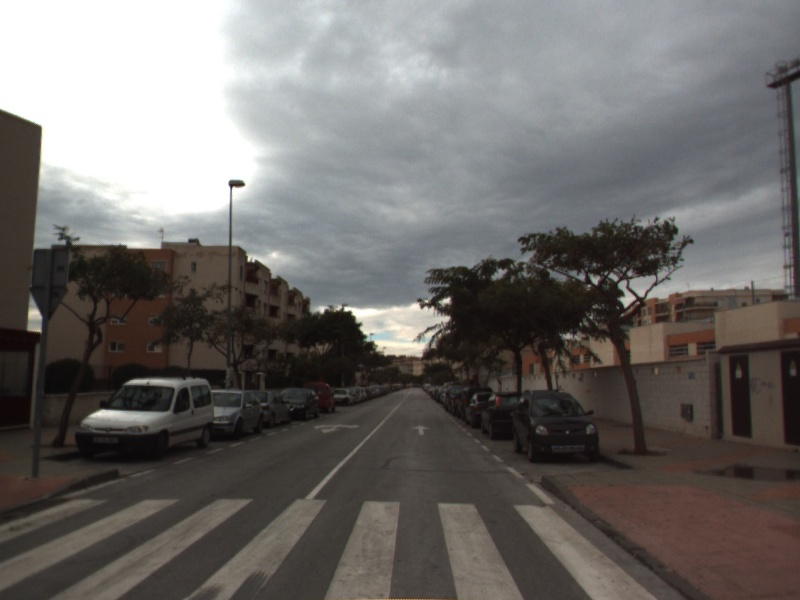STRAIGHT: (410, 423, 432, 436)
